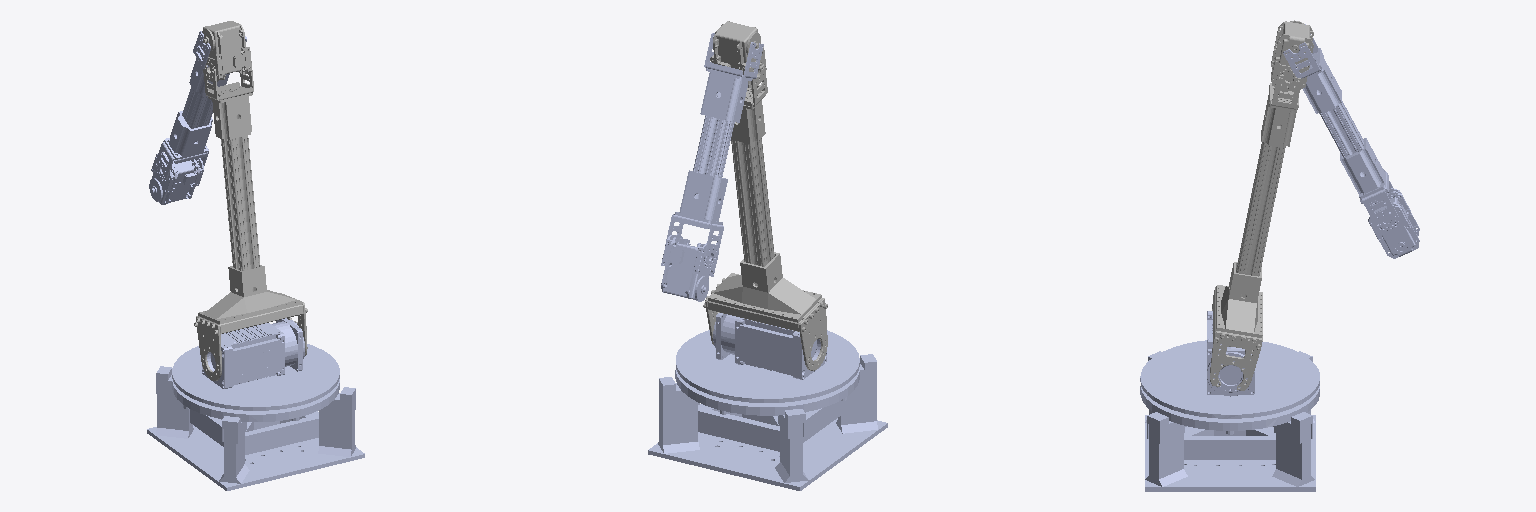
URDF robot description (Robotic_Arm):
<?xml version="1.0" encoding="utf-8"?>
<!-- This URDF was automatically created by SolidWorks to URDF Exporter! Originally created by [author] ([email redacted]) 
     Commit Version: 1.5.0-0-g9aa0fdb  Build Version: 1.5.7004.21443
     For more information, please see http://wiki.ros.org/sw_urdf_exporter -->
<robot
  name="Robotic_Arm">
  <link
    name="base_link">
    <inertial>
      <origin
        xyz="0.0774708799257212 -0.132939686251078 0.112012504856854"
        rpy="0 0 0" />
      <mass
        value="0.747959008431586" />
      <inertia
        ixx="0.00225732454406487"
        ixy="2.23393818619844E-07"
        ixz="-8.10787308198999E-08"
        iyy="0.00225790967012925"
        iyz="-1.05696847837836E-07"
        izz="0.00397889227994719" />
    </inertial>
    <visual>
      <origin
        xyz="0 0 0"
        rpy="0 0 0" />
      <geometry>
        <mesh
          filename="package://Robotic_Arm/meshes/base_link.STL" />
      </geometry>
      <material
        name="">
        <color
          rgba="0.792156862745098 0.819607843137255 0.933333333333333 1" />
      </material>
    </visual>
    <collision>
      <origin
        xyz="0 0 0"
        rpy="0 0 0" />
      <geometry>
        <mesh
          filename="package://Robotic_Arm/meshes/base_link.STL" />
      </geometry>
    </collision>
  </link>
  <link
    name="arm_link_1">
    <inertial>
      <origin
        xyz="-0.00239858695687685 0.0219611736481823 -0.0003654164395194"
        rpy="0 0 0" />
      <mass
        value="0.449107745713973" />
      <inertia
        ixx="0.000523763857142063"
        ixy="1.15326500818425E-09"
        ixz="-4.78493706030138E-08"
        iyy="0.00111509105724734"
        iyz="2.79923026040655E-10"
        izz="0.000722742804240784" />
    </inertial>
    <visual>
      <origin
        xyz="0 0 0"
        rpy="0 0 0" />
      <geometry>
        <mesh
          filename="package://Robotic_Arm/meshes/arm_link_1.STL" />
      </geometry>
      <material
        name="">
        <color
          rgba="0.792156862745098 0.819607843137255 0.933333333333333 1" />
      </material>
    </visual>
    <collision>
      <origin
        xyz="0 0 0"
        rpy="0 0 0" />
      <geometry>
        <mesh
          filename="package://Robotic_Arm/meshes/arm_link_1.STL" />
      </geometry>
    </collision>
  </link>
  <joint
    name="arm_joint_1"
    type="continuous">
    <origin
      xyz="0.077663 -0.13275 0.16758"
      rpy="1.5708 0 0" />
    <parent
      link="base_link" />
    <child
      link="arm_link_1" />
    <axis
      xyz="0 1 0" />
    <limit
      lower="0"
      upper="3.14"
      effort="0"
      velocity="0" />
    <safety_controller
      k_velocity="0" />
  </joint>
  <link
    name="arm_link_2">
    <inertial>
      <origin
        xyz="-0.000500576888319448 0.192519116267856 -0.000265676079622953"
        rpy="0 0 0" />
      <mass
        value="0.421933647074246" />
      <inertia
        ixx="0.00119101878063656"
        ixy="-9.38571195847806E-08"
        ixz="-3.61118369829318E-07"
        iyy="0.000165865664319786"
        iyz="-8.58458961831745E-07"
        izz="0.00112242532449343" />
    </inertial>
    <visual>
      <origin
        xyz="0 0 0"
        rpy="0 0 0" />
      <geometry>
        <mesh
          filename="package://Robotic_Arm/meshes/arm_link_2.STL" />
      </geometry>
      <material
        name="">
        <color
          rgba="0.752941176470588 0.752941176470588 0.752941176470588 1" />
      </material>
    </visual>
    <collision>
      <origin
        xyz="0 0 0"
        rpy="0 0 0" />
      <geometry>
        <mesh
          filename="package://Robotic_Arm/meshes/arm_link_2.STL" />
      </geometry>
    </collision>
  </link>
  <joint
    name="arm_joint_2"
    type="continuous">
    <origin
      xyz="-0.0023104 0.032 -0.00054816"
      rpy="-1.5708 -1.3894 1.5708" />
    <parent
      link="arm_link_1" />
    <child
      link="arm_link_2" />
    <axis
      xyz="0 0 1" />
    <safety_controller
      k_velocity="0" />
  </joint>
  <link
    name="arm_link_3">
    <inertial>
      <origin
        xyz="0.00088882 0.15812 0.00071071"
        rpy="0 0 0" />
      <mass
        value="0.25828" />
      <inertia
        ixx="0.00027832"
        ixy="-8.812E-07"
        ixz="-1.4423E-11"
        iyy="5.4616E-05"
        iyz="-8.6935E-09"
        izz="0.00029095" />
    </inertial>
    <visual>
      <origin
        xyz="0 0 0"
        rpy="0 0 0" />
      <geometry>
        <mesh
          filename="package://Robotic_Arm/meshes/arm_link_3.STL" />
      </geometry>
      <material
        name="">
        <color
          rgba="0.79216 0.81961 0.93333 1" />
      </material>
    </visual>
    <collision>
      <origin
        xyz="0 0 0"
        rpy="0 0 0" />
      <geometry>
        <mesh
          filename="package://Robotic_Arm/meshes/arm_link_3.STL" />
      </geometry>
    </collision>
  </link>
  <joint
    name="arm_joint_3"
    type="continuous">
    <origin
      xyz="-0.0011 0.391 0.0013878"
      rpy="2.5049 -1.5708 0" />
    <parent
      link="arm_link_2" />
    <child
      link="arm_link_3" />
    <axis
      xyz="1 0 0" />
    <safety_controller
      k_velocity="0" />
  </joint>
</robot>

--- Facts derived from the render (not from the file) ---
Views: 3 orthographic renders of the robot side by side, from view 1: azimuth 30°, elevation 25°; view 2: azimuth 150°, elevation 25°; view 3: azimuth 270°, elevation 25°.
Robot: Robotic_Arm — 4 links, 3 joints (3 continuous); root link base_link; default pose: every joint at zero.
Links seen in each view (by area): view 1: base_link, arm_link_2, arm_link_1, arm_link_3; view 2: base_link, arm_link_2, arm_link_1, arm_link_3; view 3: base_link, arm_link_2, arm_link_1, arm_link_3.
Link boxes in pixels (bbox=[...]): base_link: bbox=[147, 366, 364, 490]; arm_link_2: bbox=[194, 21, 307, 380]; arm_link_1: bbox=[172, 318, 339, 410]; arm_link_3: bbox=[149, 31, 246, 204]; base_link: bbox=[648, 354, 887, 490]; arm_link_2: bbox=[703, 21, 827, 370]; arm_link_1: bbox=[676, 313, 859, 402]; arm_link_3: bbox=[661, 33, 763, 301]; base_link: bbox=[1140, 351, 1319, 491]; arm_link_2: bbox=[1210, 20, 1313, 390]; arm_link_1: bbox=[1140, 311, 1319, 418]; arm_link_3: bbox=[1283, 24, 1419, 258].
Size in the robot's own frame: 0.2 by 0.3104 by 0.5232 metres.
4 mesh visuals loaded from 4 distinct referenced files (4 binary STL).